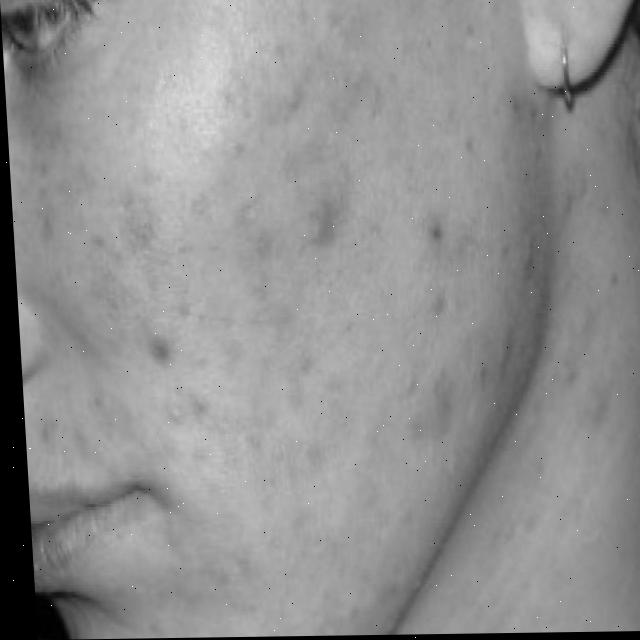Acne: (63, 16, 609, 538)
